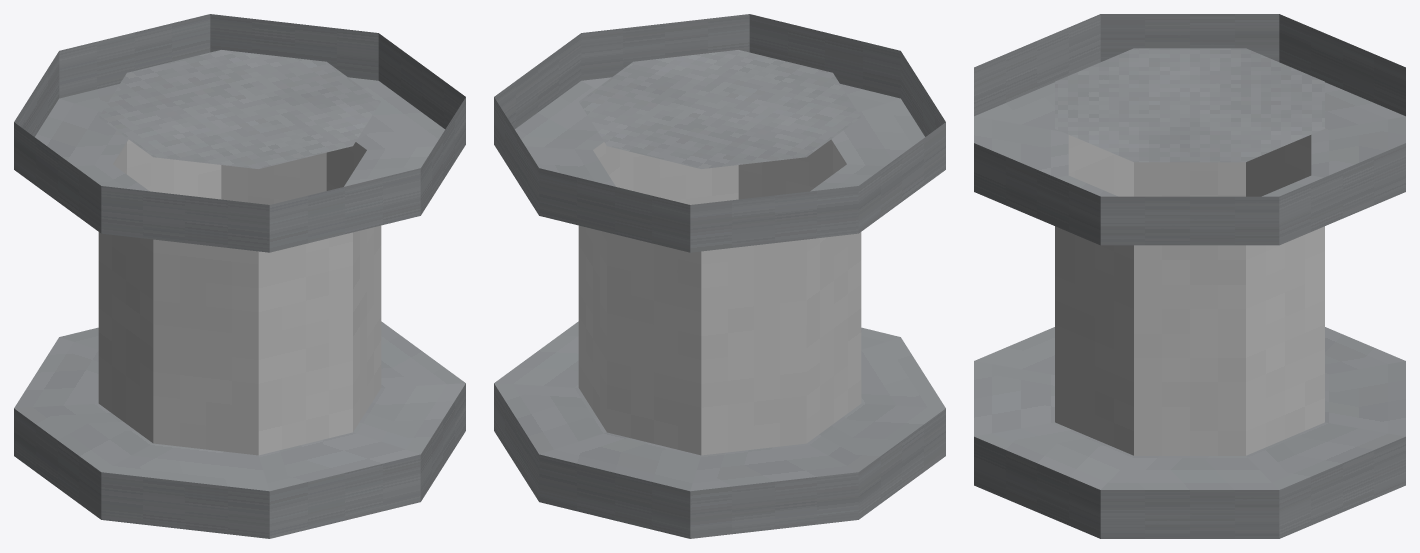
The model's file is connection_0.obj.
3 views of the same model, side by side, from view 1: azimuth 30°, elevation 25°; view 2: azimuth 150°, elevation 25°; view 3: azimuth 270°, elevation 25° (orthographic). The views are drawn at different scales.
Bounding box in the file's own units: 0.5 × 0.4375 × 0.5.
